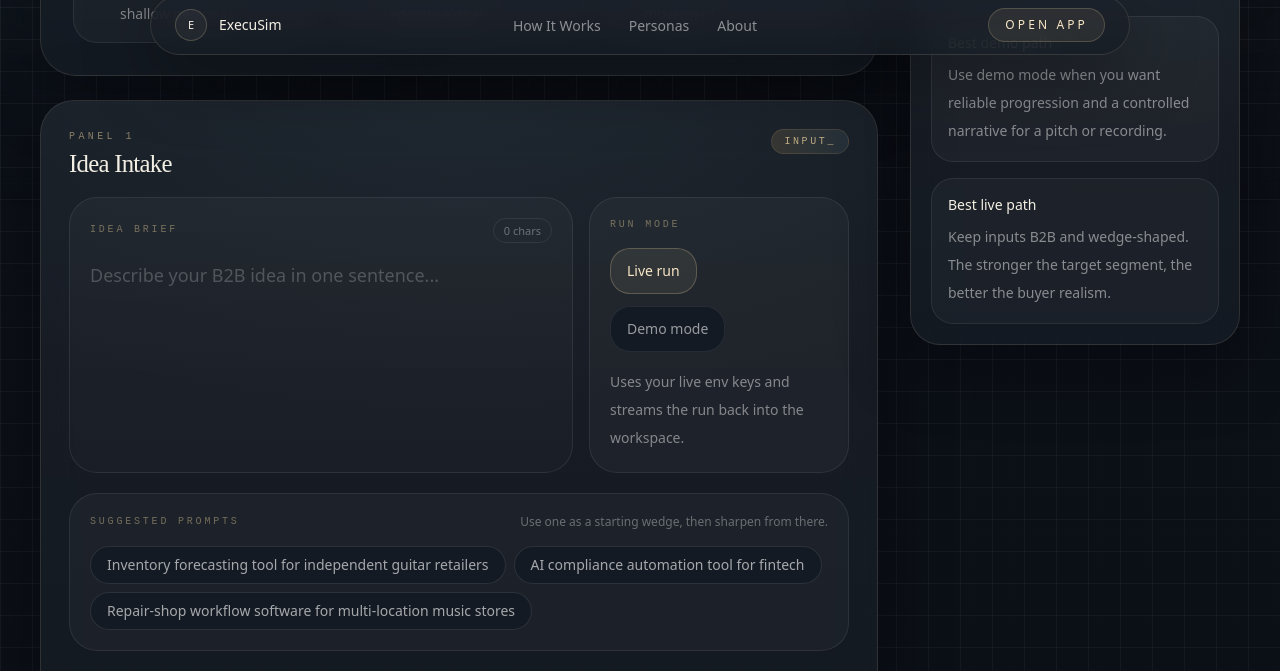
Test: SimulatePage › status changes to running and panel 2 appears immediately after submit
(page scrolled)
Type "AI compliance tool for fintech" into the text box with test id "idea-input" at {"x": 321, "y": 335}, box [90, 259, 552, 411]
(page scrolled)
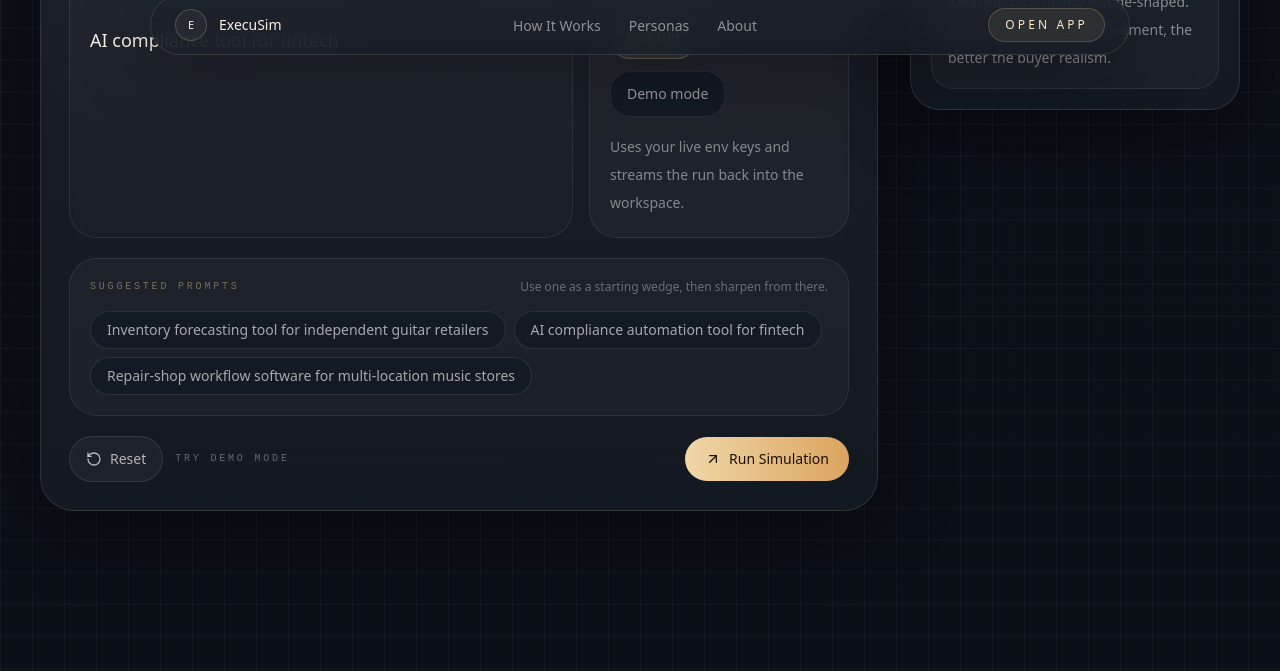
Click the button with test id "submit-button" at {"x": 767, "y": 459}, box [685, 437, 849, 481]
(page scrolled)
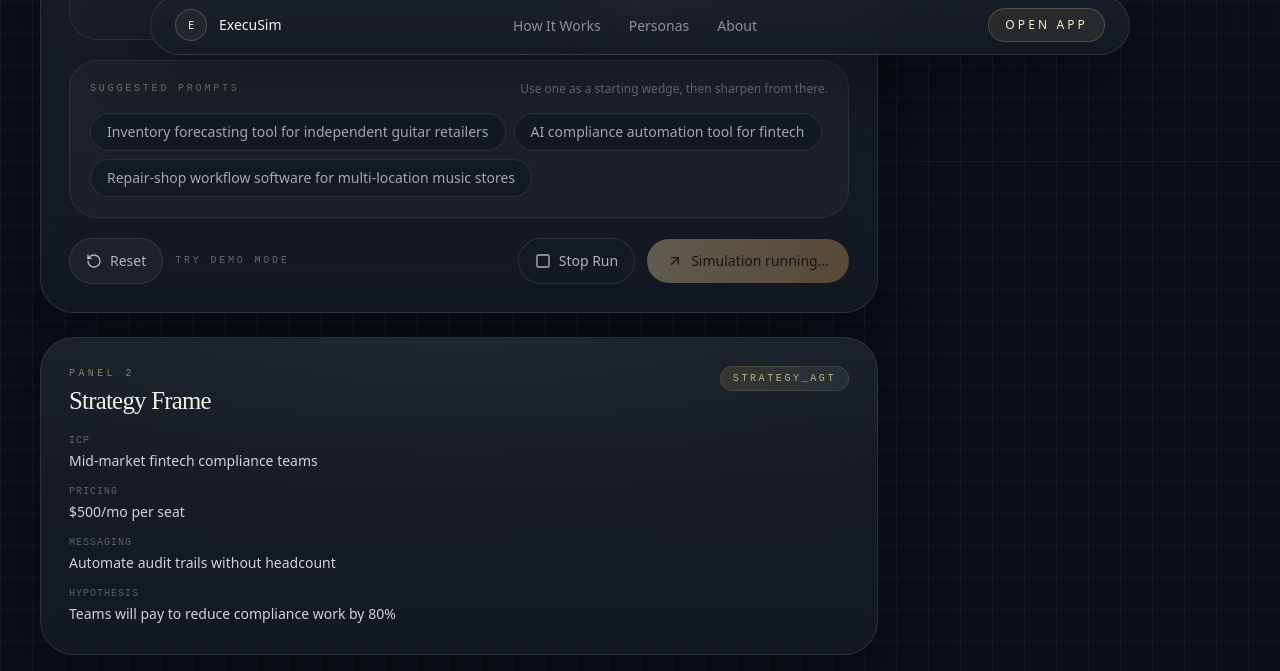
Expected: the element with test id "panel-2" is shown, [40, 337, 878, 655]
